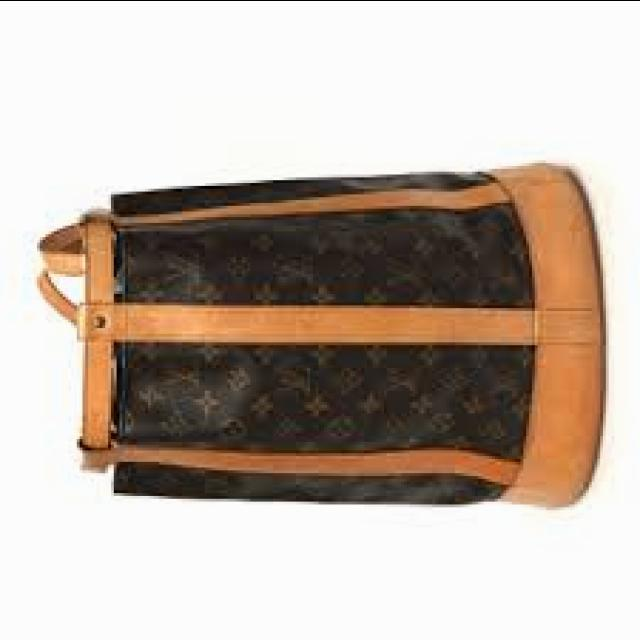backpack: (35, 163, 604, 510)
